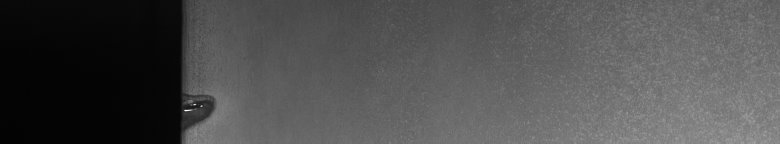hb: (192, 88, 223, 135)
